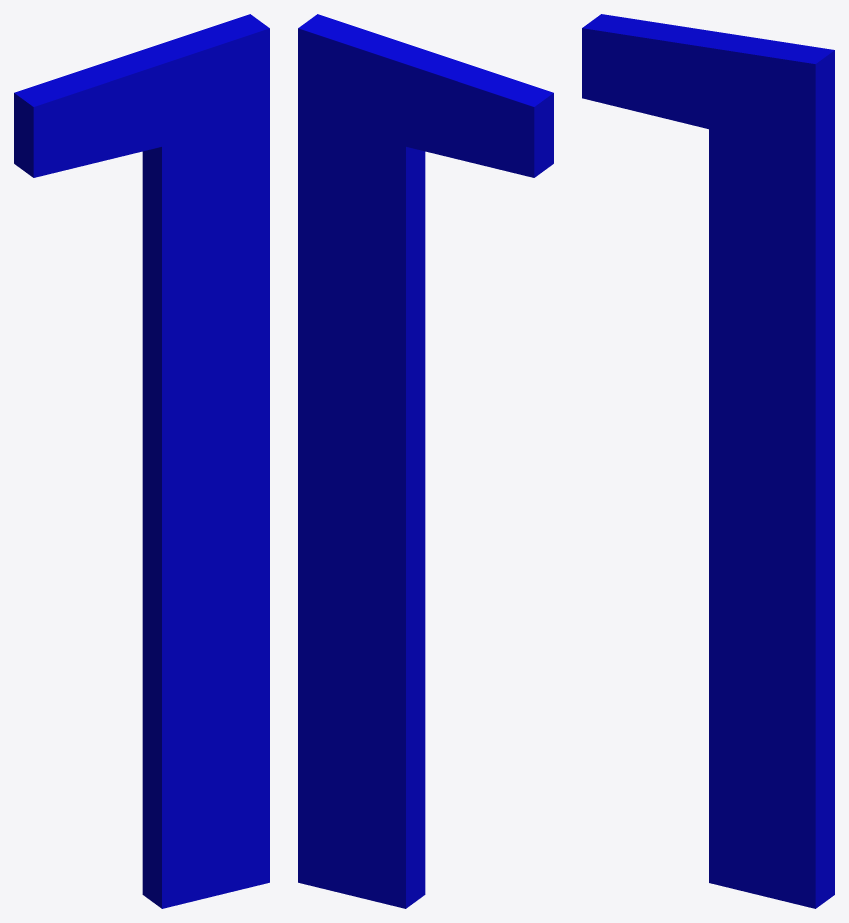
3 views of the same model, side by side, from view 1: azimuth 30°, elevation 25°; view 2: azimuth 150°, elevation 25°; view 3: azimuth 330°, elevation 25° (orthographic).
Visible parts, largest first — view 1: typeMesh1; view 2: typeMesh1; view 3: typeMesh1.
Boxes of the visible parts, box(x1,y1,x2,y2) form: typeMesh1: box(14, 14, 269, 908); typeMesh1: box(298, 14, 553, 908); typeMesh1: box(582, 14, 834, 908).
Bounding box in the file's own units: 0.1743 × 0.6025 × 0.025.
